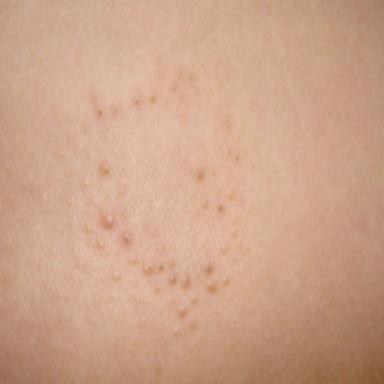acne: (101, 214, 115, 229), (121, 231, 132, 245), (99, 162, 110, 176), (181, 277, 191, 288), (143, 265, 155, 274), (178, 308, 187, 318), (221, 244, 229, 254), (205, 264, 212, 275), (113, 271, 121, 280), (208, 285, 217, 293), (197, 172, 205, 180), (218, 204, 225, 213), (132, 97, 139, 106), (97, 240, 104, 248), (83, 225, 91, 232), (169, 276, 176, 284), (223, 277, 229, 286), (191, 296, 197, 305), (111, 106, 117, 115), (203, 201, 209, 210), (190, 322, 197, 329), (158, 264, 164, 272), (235, 154, 241, 162), (171, 84, 177, 92), (169, 260, 175, 268), (149, 96, 156, 102), (173, 326, 179, 333), (155, 287, 161, 293), (93, 93, 97, 102), (189, 73, 193, 82), (97, 110, 102, 117), (227, 149, 232, 155), (227, 191, 231, 196), (178, 73, 181, 79)
